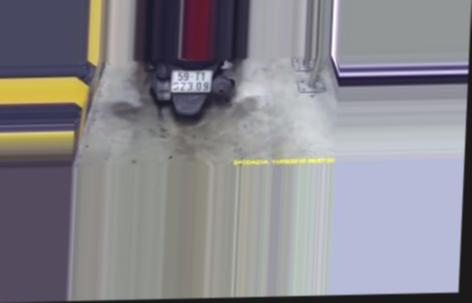License_Plate: (169, 66, 211, 98)
